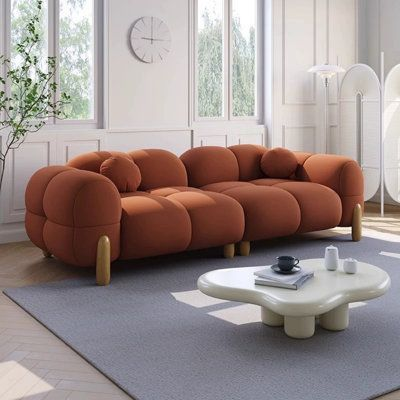3seatersofa: (25, 145, 363, 285)
backrest: (121, 179, 340, 258), (66, 144, 267, 189)
leftarmrest: (294, 152, 363, 225)
leg: (96, 236, 110, 285), (352, 204, 361, 241), (224, 245, 234, 257), (240, 242, 249, 255), (43, 250, 50, 256)
pillow: (100, 156, 143, 191), (256, 148, 297, 177)
rightarmrest: (26, 166, 120, 266)
seat: (120, 178, 340, 258)
